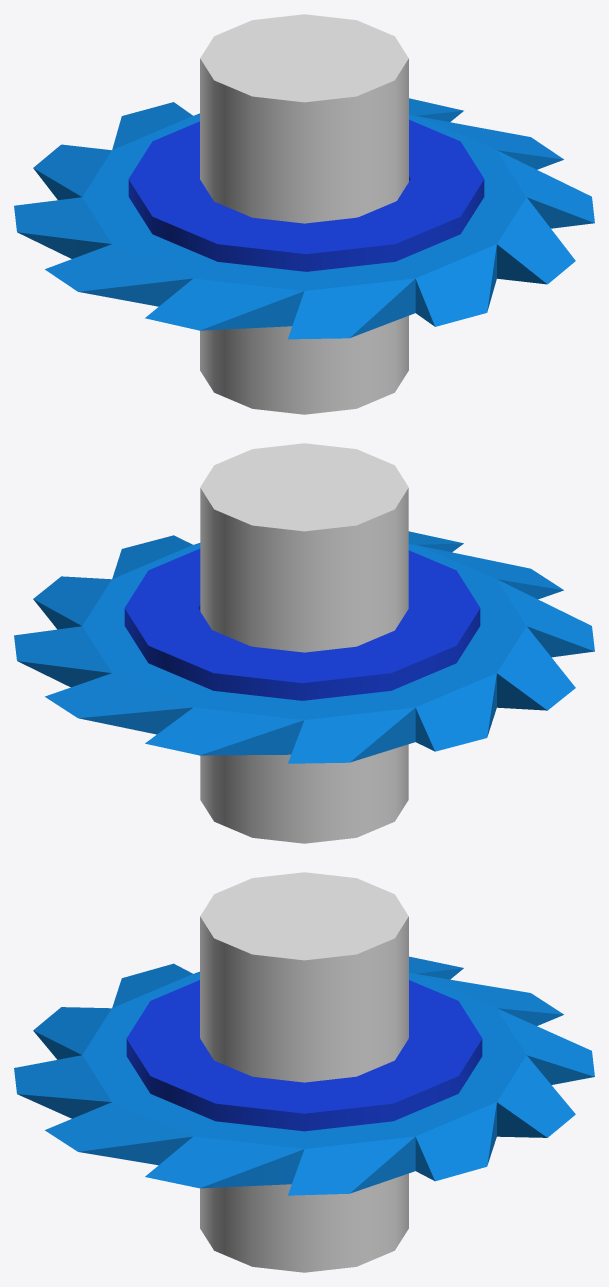
The model's file is saw.fbx.
3 renders of one model, top to bottom at view 1: azimuth 30°, elevation 25°; view 2: azimuth 150°, elevation 25°; view 3: azimuth 270°, elevation 25°, orthographic.
Visible parts, largest first — view 1: rotating_saw, rotating_saw_body; view 2: rotating_saw, rotating_saw_body; view 3: rotating_saw, rotating_saw_body.
Boxes of the visible parts, bbox=[...] form: rotating_saw: bbox=[14, 14, 594, 414]; rotating_saw_body: bbox=[128, 119, 484, 271]; rotating_saw: bbox=[14, 443, 594, 843]; rotating_saw_body: bbox=[124, 548, 480, 700]; rotating_saw: bbox=[14, 872, 594, 1272]; rotating_saw_body: bbox=[126, 980, 482, 1131].
Bounding box in the file's own units: 121 × 71.8 × 121.
